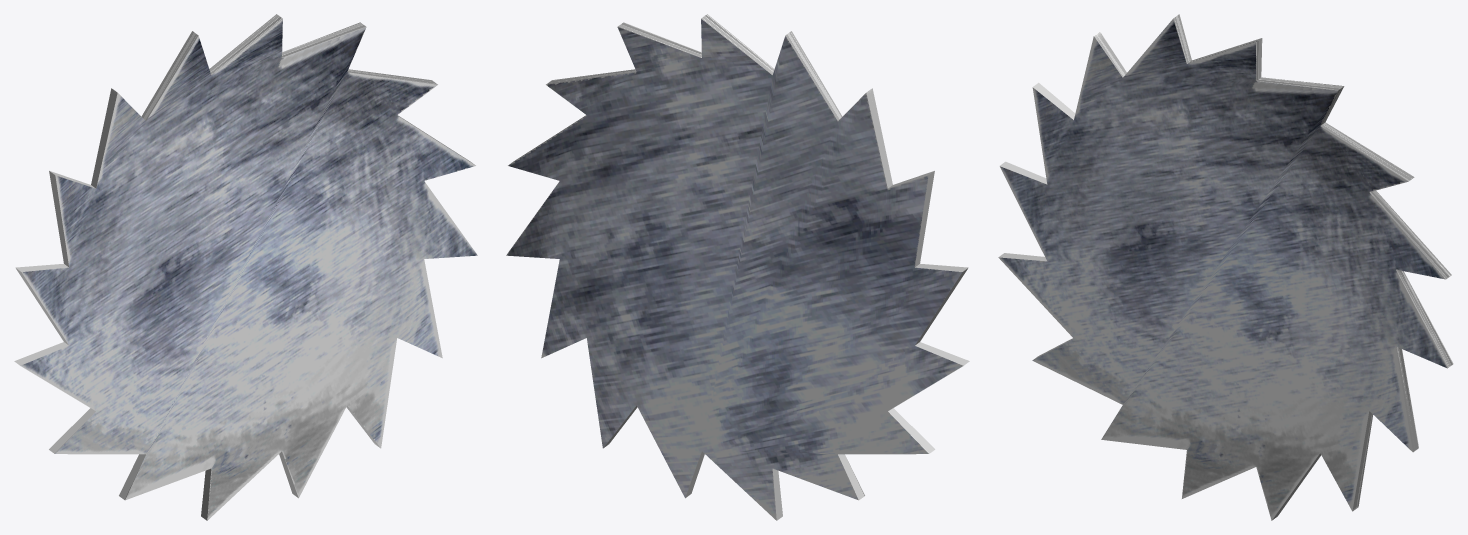
Rendered from saw.fbx.
3 renders of one model, left to right at view 1: azimuth 30°, elevation 25°; view 2: azimuth 150°, elevation 25°; view 3: azimuth 330°, elevation 25°, orthographic.
Parts seen in each view (by area): view 1: Cylinder; view 2: Cylinder; view 3: Cylinder.
Boxes of the visible parts, bbox=[...] form: Cylinder: bbox=[14, 14, 477, 520]; Cylinder: bbox=[506, 14, 969, 520]; Cylinder: bbox=[998, 14, 1453, 520].
Size of the model in its own units: 2.53 by 2.58 by 0.0602.
